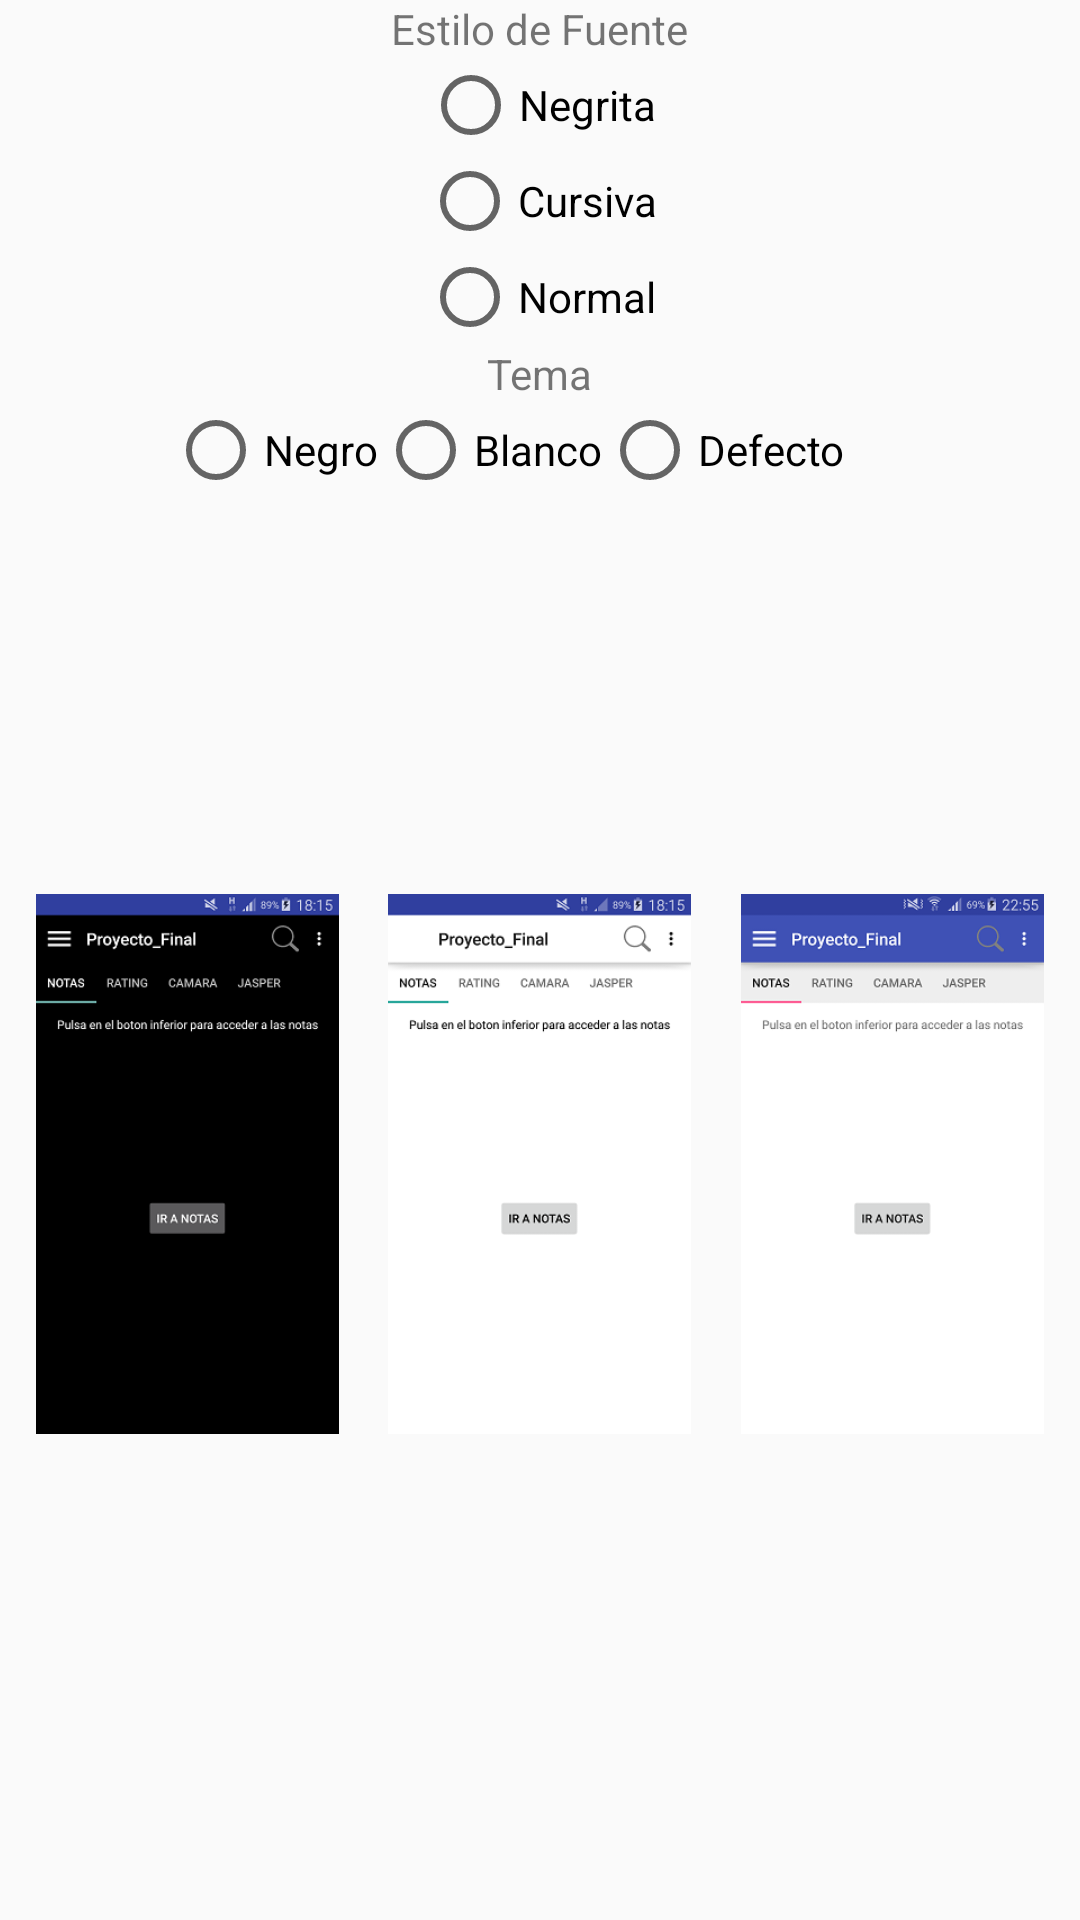

Named icons in this screenshot (1080w x 1920h) and their bounding boxes, region(x1, y1, x2, y2):
thblanco: region(388, 894, 691, 1234)
